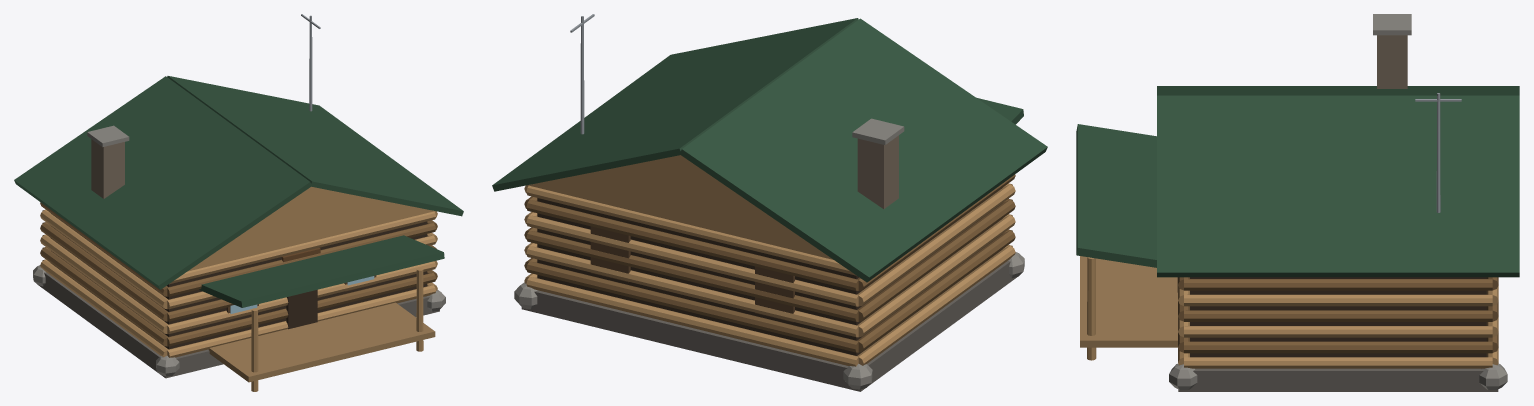
The model's file is ranger_station.glb.
3 renders of one model, left to right at view 1: azimuth 30°, elevation 25°; view 2: azimuth 150°, elevation 25°; view 3: azimuth 270°, elevation 25°, orthographic. The views are drawn at different scales.
Parts seen in each view (by area): view 1: roof, logwall (×2), porch, foundation, ranger_station, chimney, door; view 2: roof, logwall (×2), foundation, ranger_station, chimney, porch; view 3: roof, logwall (×3), porch, ranger_station, foundation, chimney.
Part boxes in pixels (left/top/right/bottom): roof: left=14, top=76, right=463, bottom=289; logwall (×2): left=40, top=202, right=435, bottom=357; porch: left=199, top=235, right=444, bottom=391; foundation: left=33, top=265, right=445, bottom=378; ranger_station: left=51, top=14, right=427, bottom=349; chimney: left=87, top=125, right=129, bottom=198; door: left=286, top=289, right=317, bottom=329; roof: left=492, top=18, right=1047, bottom=282; logwall (×2): left=526, top=174, right=1015, bottom=366; foundation: left=514, top=252, right=1024, bottom=391; ranger_station: left=537, top=14, right=1002, bottom=355; chimney: left=852, top=118, right=904, bottom=208; porch: left=976, top=97, right=1023, bottom=124; roof: left=1157, top=86, right=1519, bottom=277; logwall (×3): left=1178, top=277, right=1498, bottom=368; porch: left=1076, top=124, right=1177, bottom=360; ranger_station: left=1190, top=93, right=1486, bottom=357; foundation: left=1169, top=363, right=1507, bottom=391; chimney: left=1373, top=14, right=1411, bottom=88.
Size of the model in its own units: 11.47 by 8.1 by 11.49.
